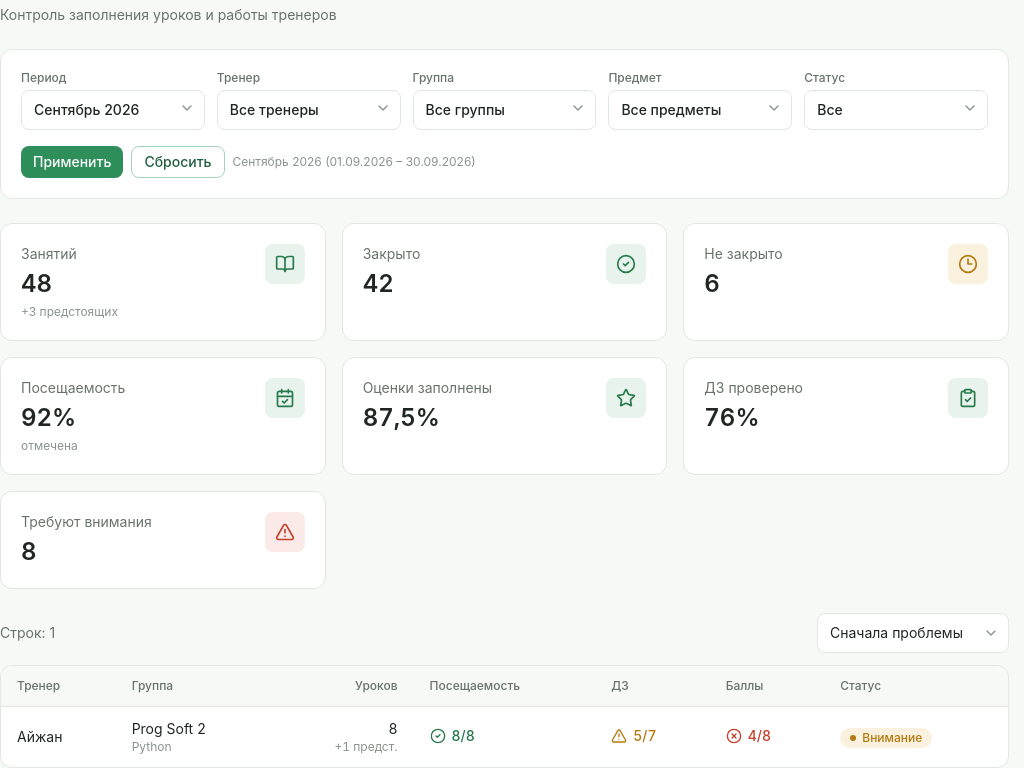
it: ControlPage › shows the backend homework breakdown and a lesson without planned homework as not required
(page scrolled)
Click the cell "Айжан": [58, 737] box [1,706,116,767]
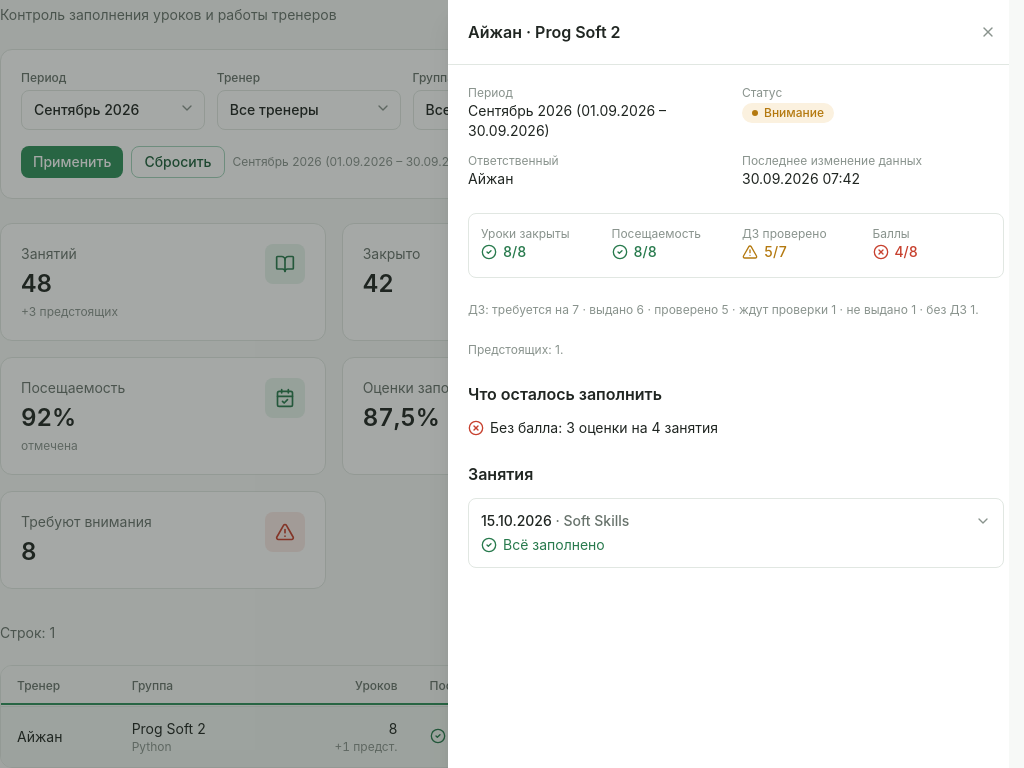
Expected: the text "ДЗ: требуется на 7 · выдано 6 · проверено 5 · ждут проверки 1 · не выдано 1 · без ДЗ 1." is shown, [468,302,979,317]
Click the text "15.10.2026": [555, 521] box [481,511,629,531]
(page scrolled)
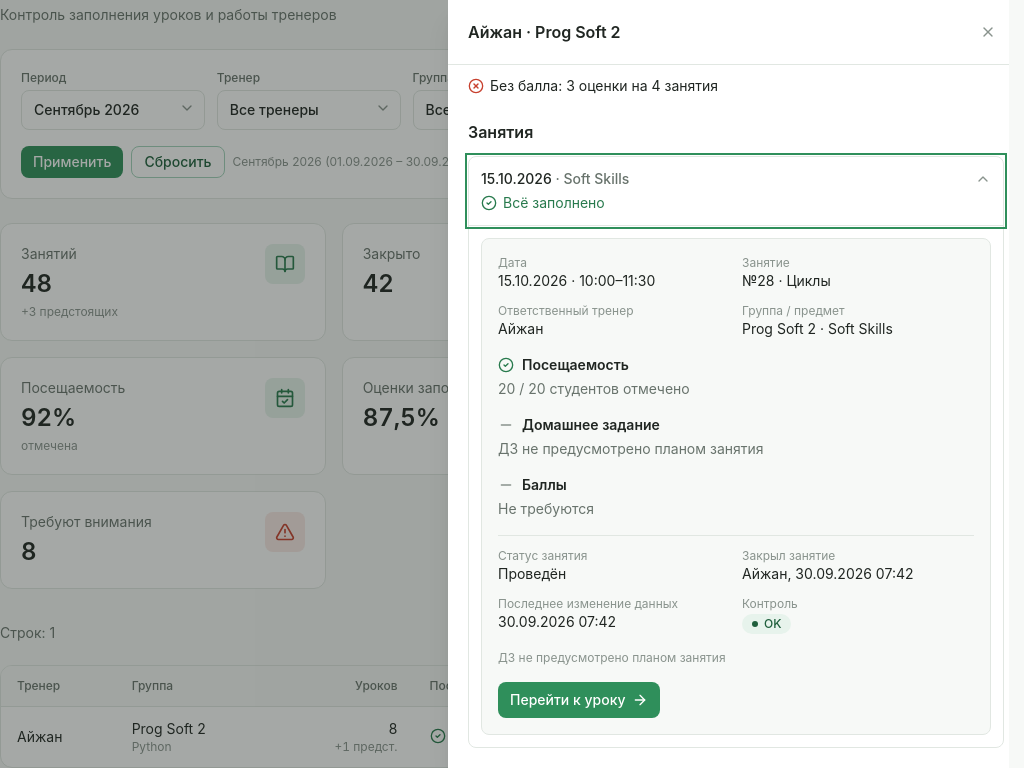
Expected: the text "ДЗ не предусмотрено планом занятия" is shown, [498,440,764,457]
